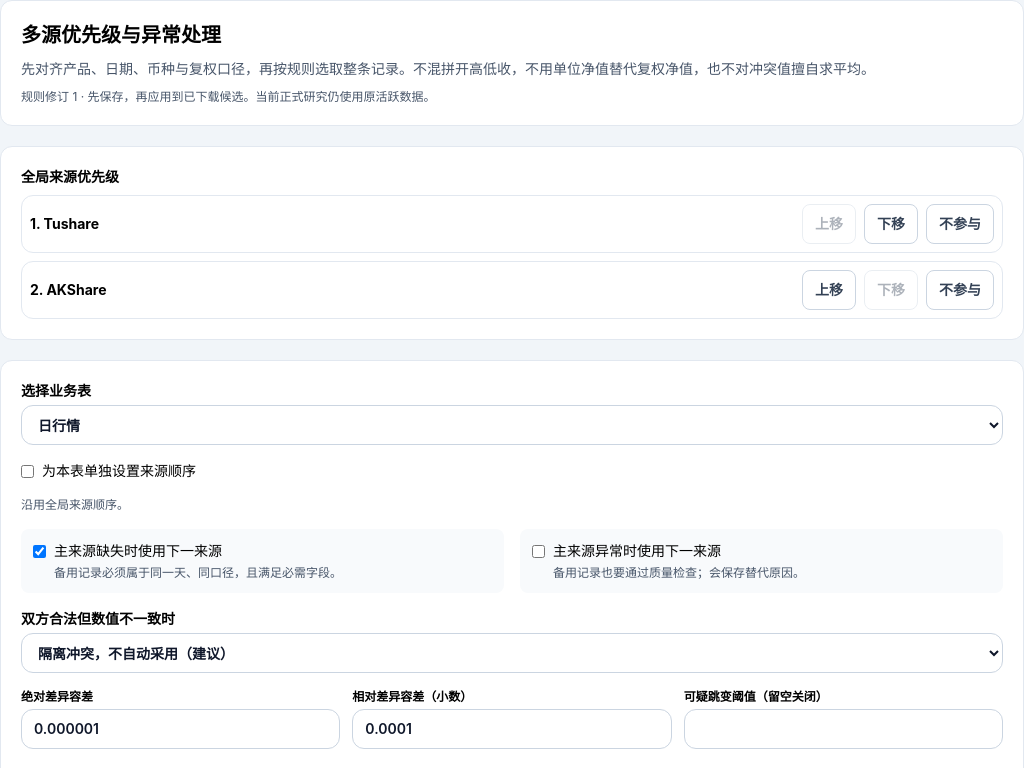
Scenario: ResolutionPanel › 调整全局优先级后须保存，保存使用原修订号
What coordinates should you click on to do the following:
click the button with aria-label "全局来源优先级 akshare 上移"
I would click on:
 (829, 290)
Its box is [802, 270, 856, 310].
(page scrolled)
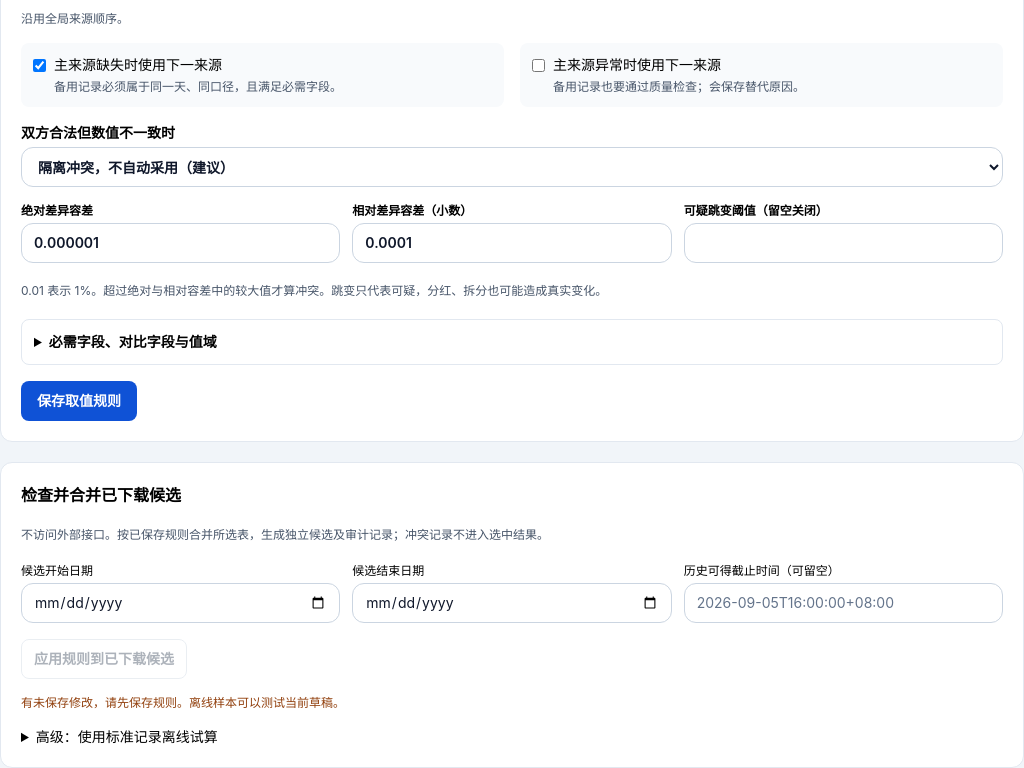
Expected: the button "应用规则到已下载候选" is disabled, [21, 639, 187, 679]
What coordinates should you click on to do the following:
click the button "保存取值规则"
I would click on:
 (79, 401)
Its box is [21, 381, 137, 421].
(page scrolled)
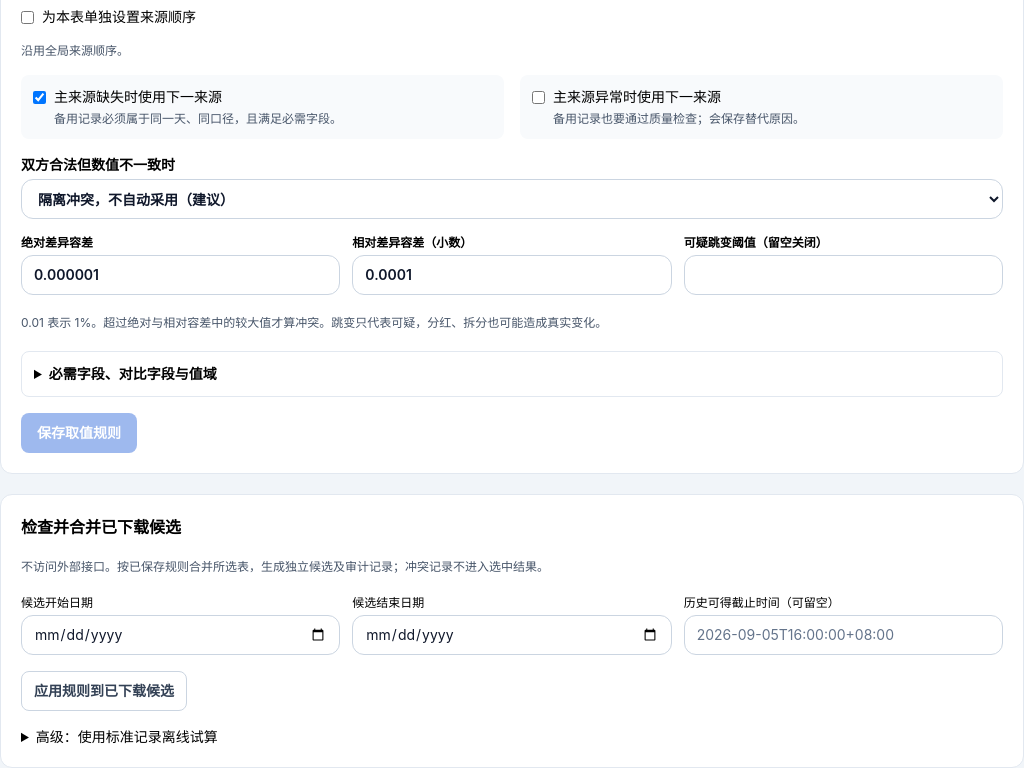
Expected: the button "应用规则到已下载候选" is enabled, [21, 671, 187, 711]
